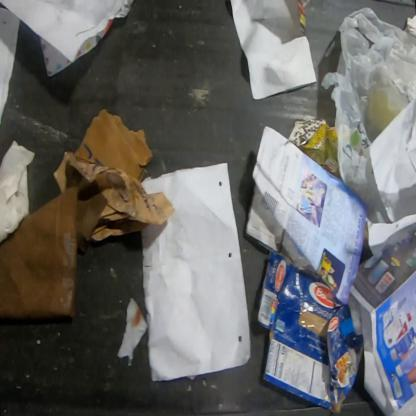cardboard: (0, 170, 127, 322), (254, 248, 364, 415), (74, 107, 154, 182)
soft_plastic: (320, 6, 415, 224)
